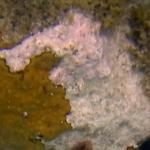dead: (1, 9, 148, 146)
